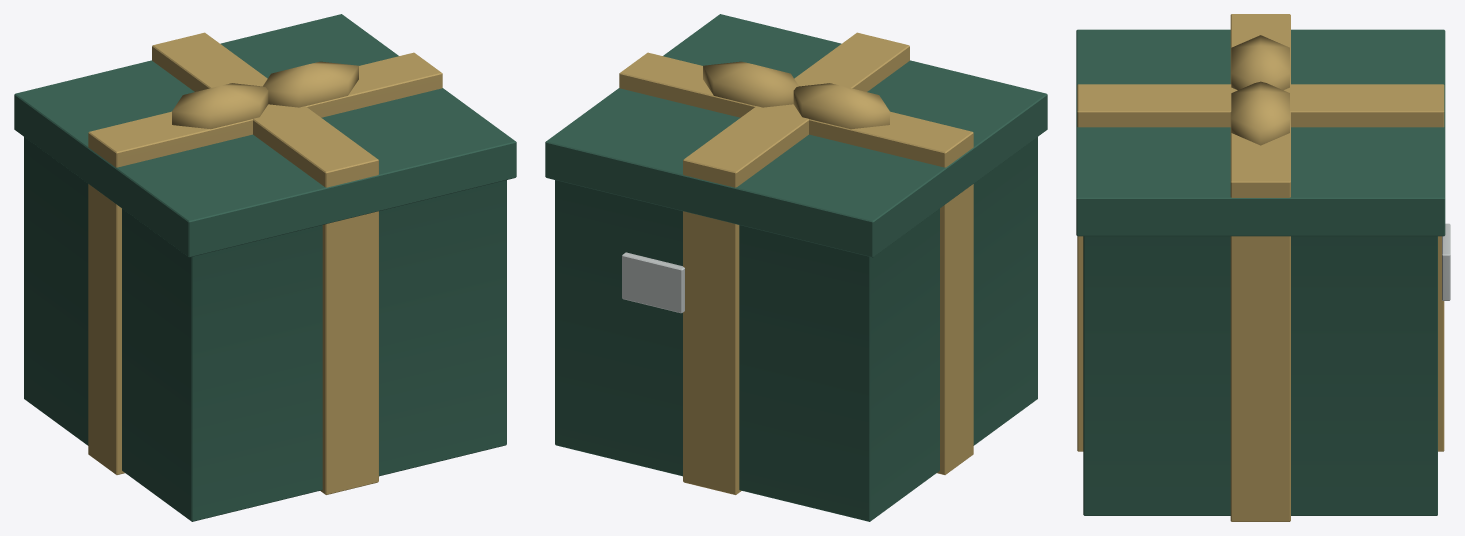
Rendered from gift_box_green_low.glb.
3 renders of one model, left to right at view 1: azimuth 30°, elevation 25°; view 2: azimuth 150°, elevation 25°; view 3: azimuth 270°, elevation 25°, orthographic. The views are drawn at different scales.
Size of the model in its own units: 0.5408 by 0.552 by 0.5066.
